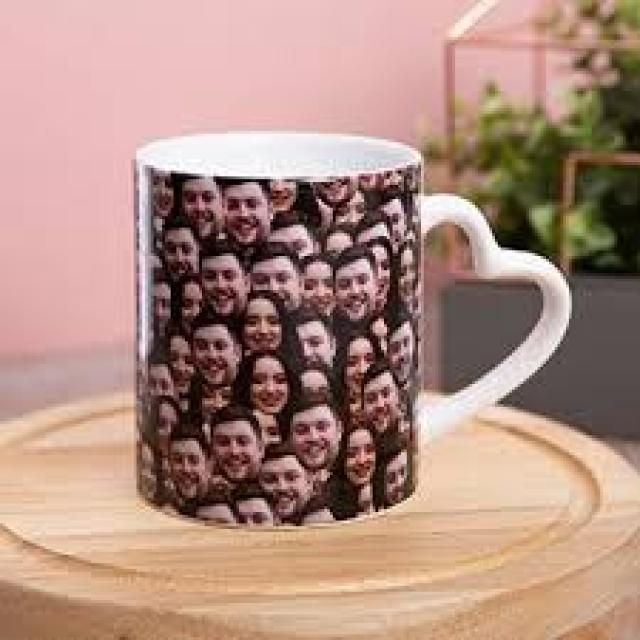taza: (109, 134, 586, 540)
